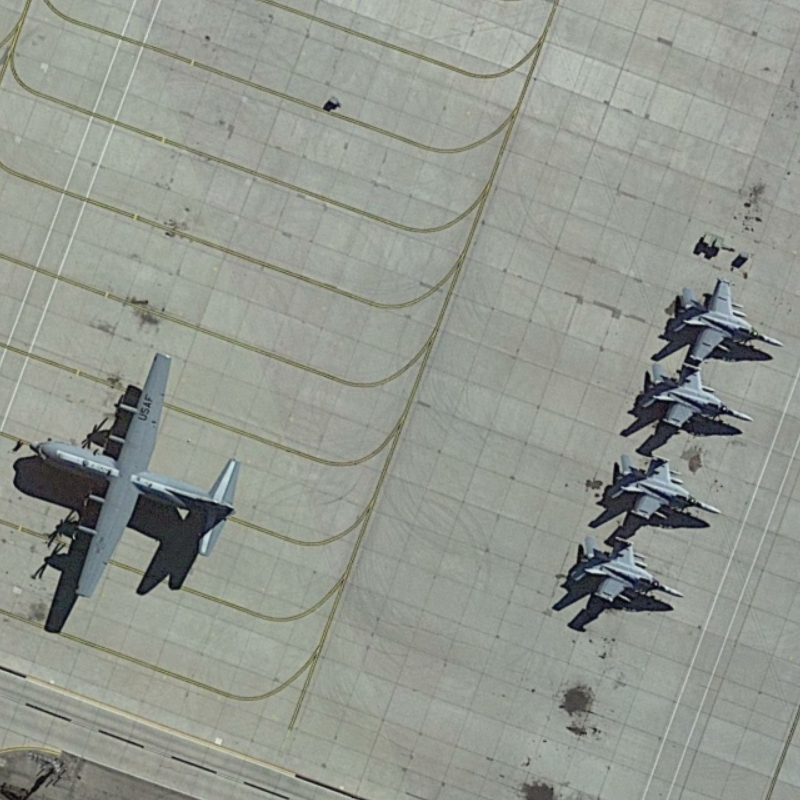A16: (656, 263, 793, 372), (559, 528, 691, 617), (631, 359, 763, 443), (597, 447, 727, 528)
A2: (13, 344, 265, 607)
